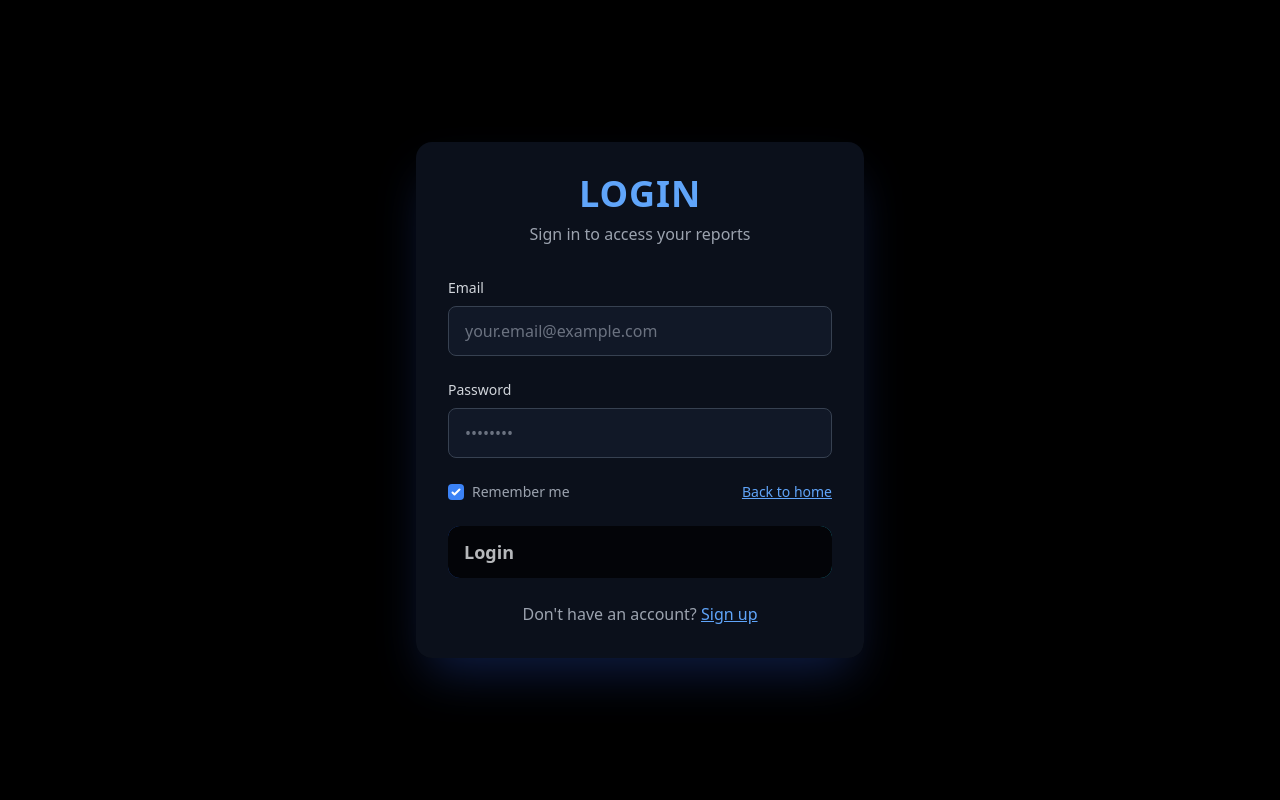
LoginPage › shows API error for invalid password
Type "user@example.com" into the field labelled "Email". click: (640, 331)
box: [448,306,832,356]
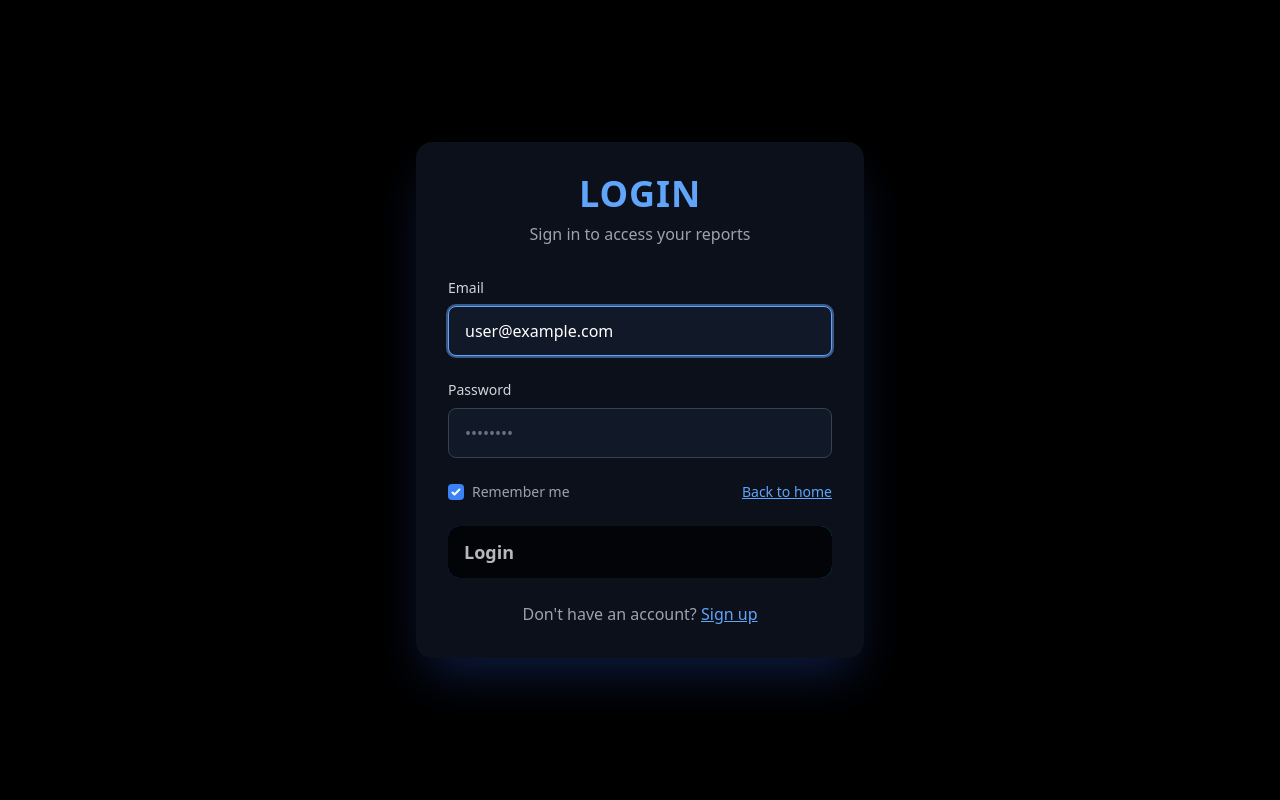
Type "wrongpass" into the password field labelled "Password". click: (640, 433)
box: [448,408,832,458]
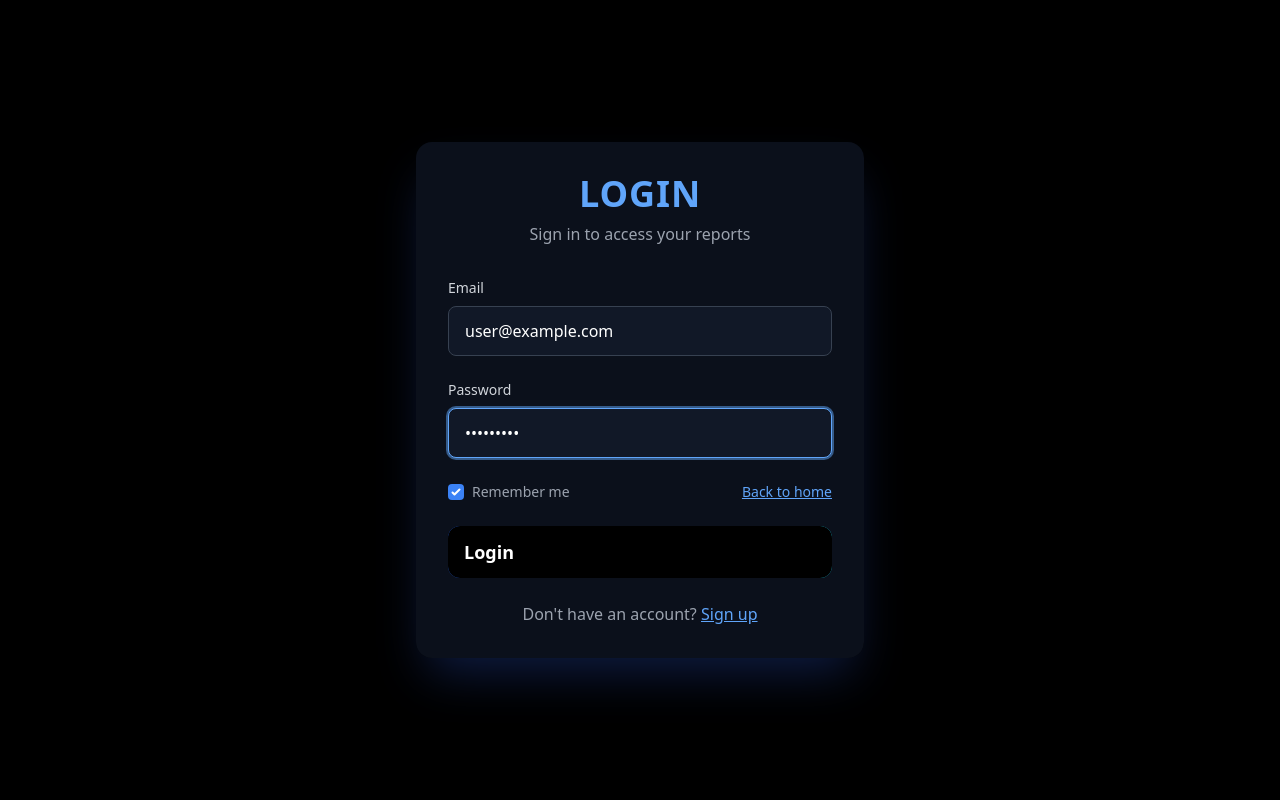
Click the button "Login". click: (489, 552)
box: [448,526,832,578]
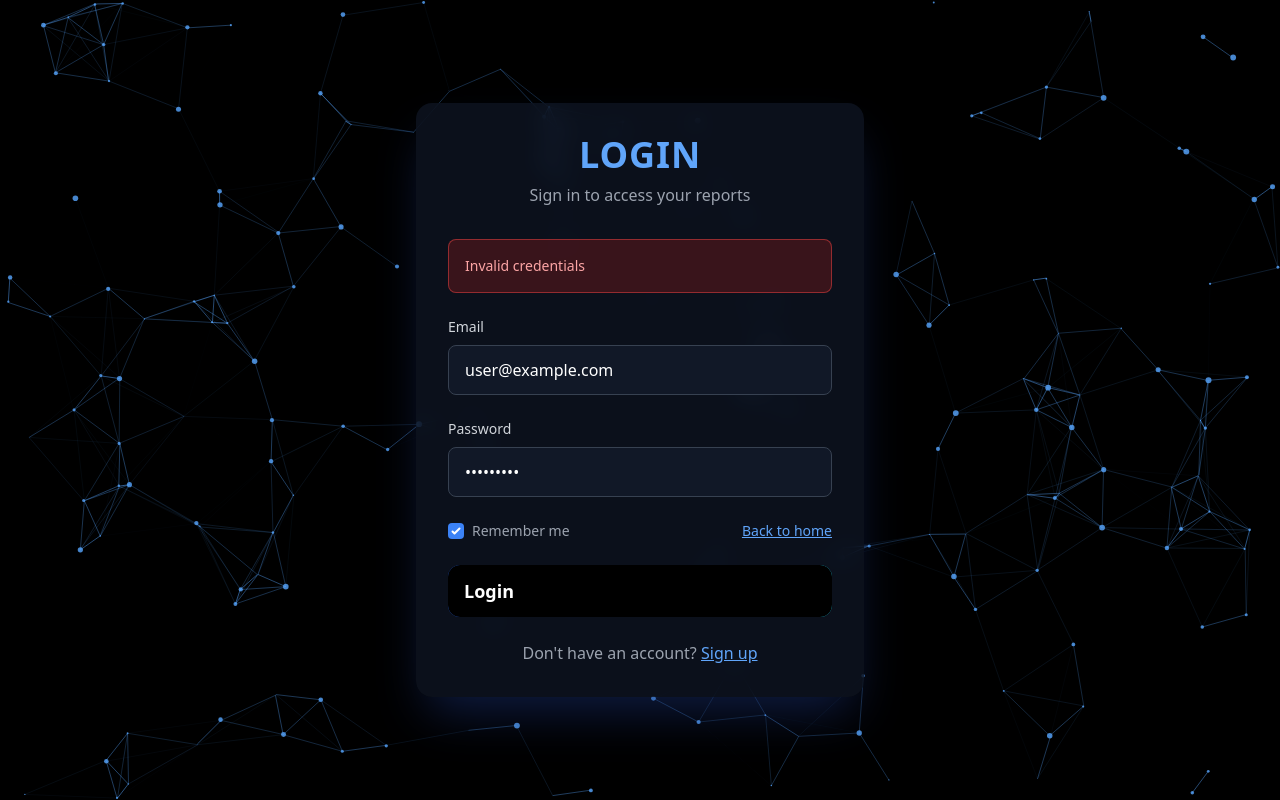
expect the text "Invalid credentials" is shown: met, box [465,256,585,275]
